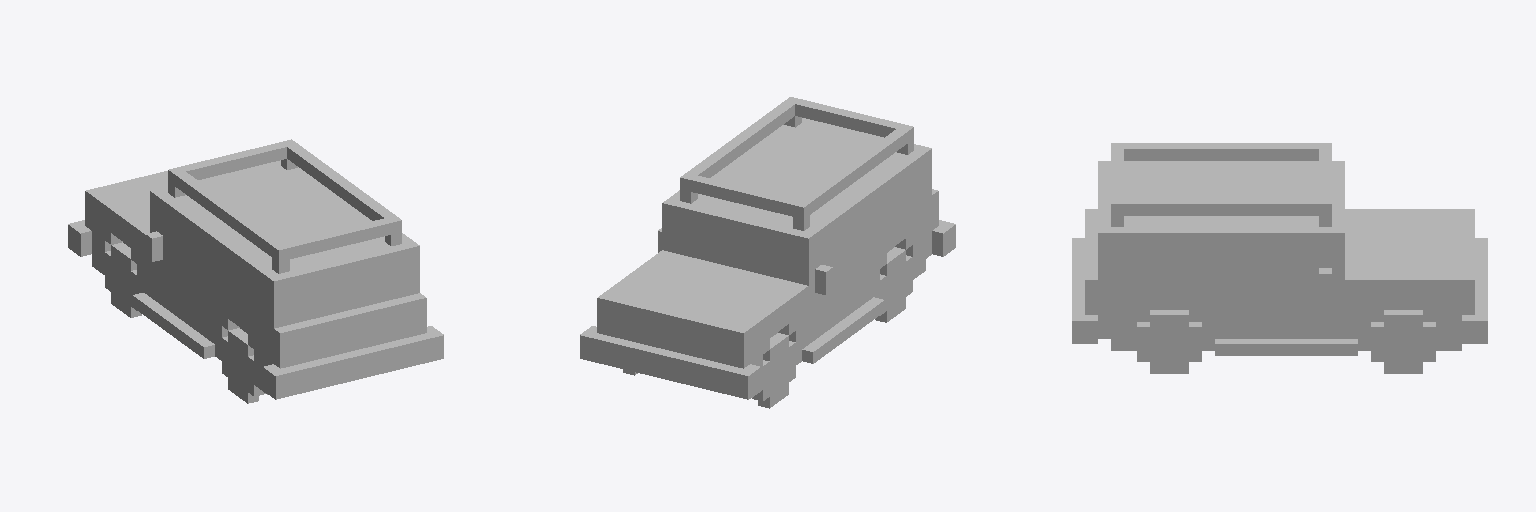
Rendered from van.obj.
3 views of the same model, side by side, from view 1: azimuth 30°, elevation 25°; view 2: azimuth 150°, elevation 25°; view 3: azimuth 270°, elevation 25° (orthographic).
Parts seen in each view (by area): view 1: object 1; view 2: object 1; view 3: object 1.
Boxes of the visible parts, x1,y1,x2,y2 form: object 1: [68, 139, 443, 403]; object 1: [580, 97, 955, 408]; object 1: [1072, 143, 1487, 373].
Size of the model in its own units: 1.5 by 1.4 by 3.2.